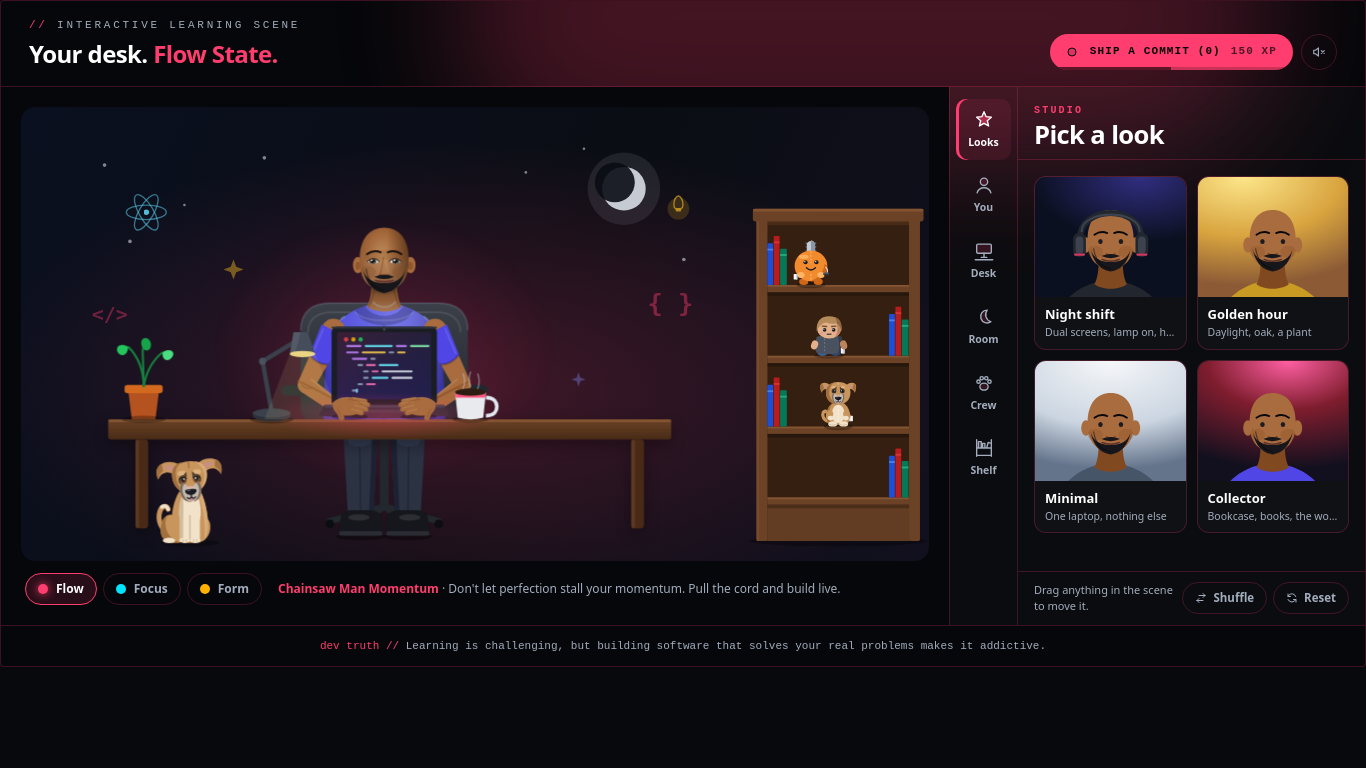
Test: InteractiveLearningScene Component › earns XP for each commit shipped
This screenshot has width=1366, height=768.
Click the button "Ship a commit (0) 150 XP" at (1171, 52), box [1050, 34, 1293, 70]
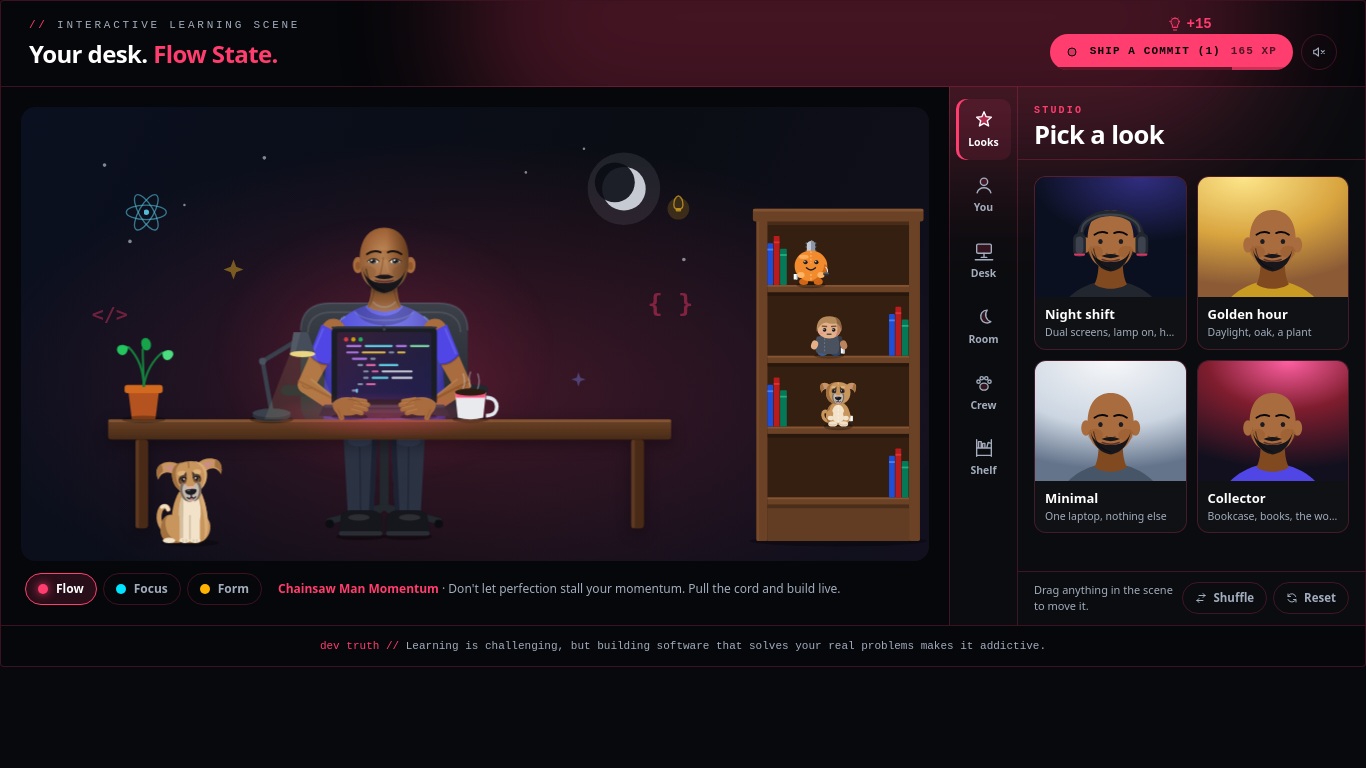
Expected: the button "Ship a commit (1) 165 XP" is shown, [1050, 34, 1293, 70]
Expected: the text "165 XP" is shown, [1231, 43, 1277, 60]
